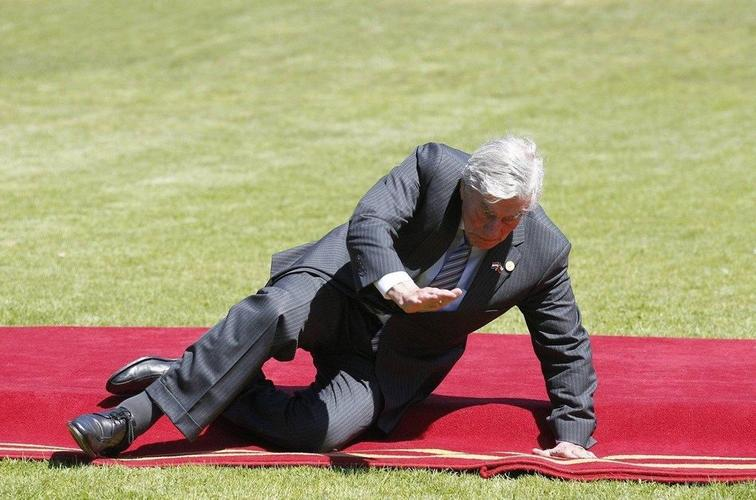down: (68, 133, 622, 490)
